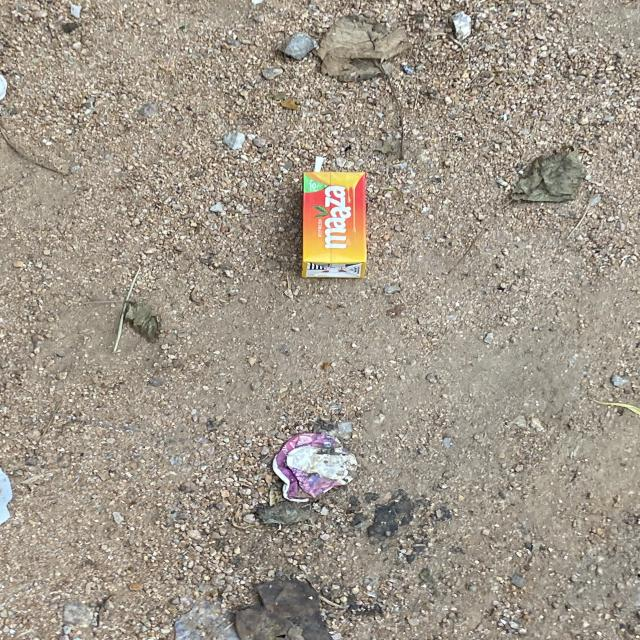ly_hop_giay: (301, 171, 367, 278)
